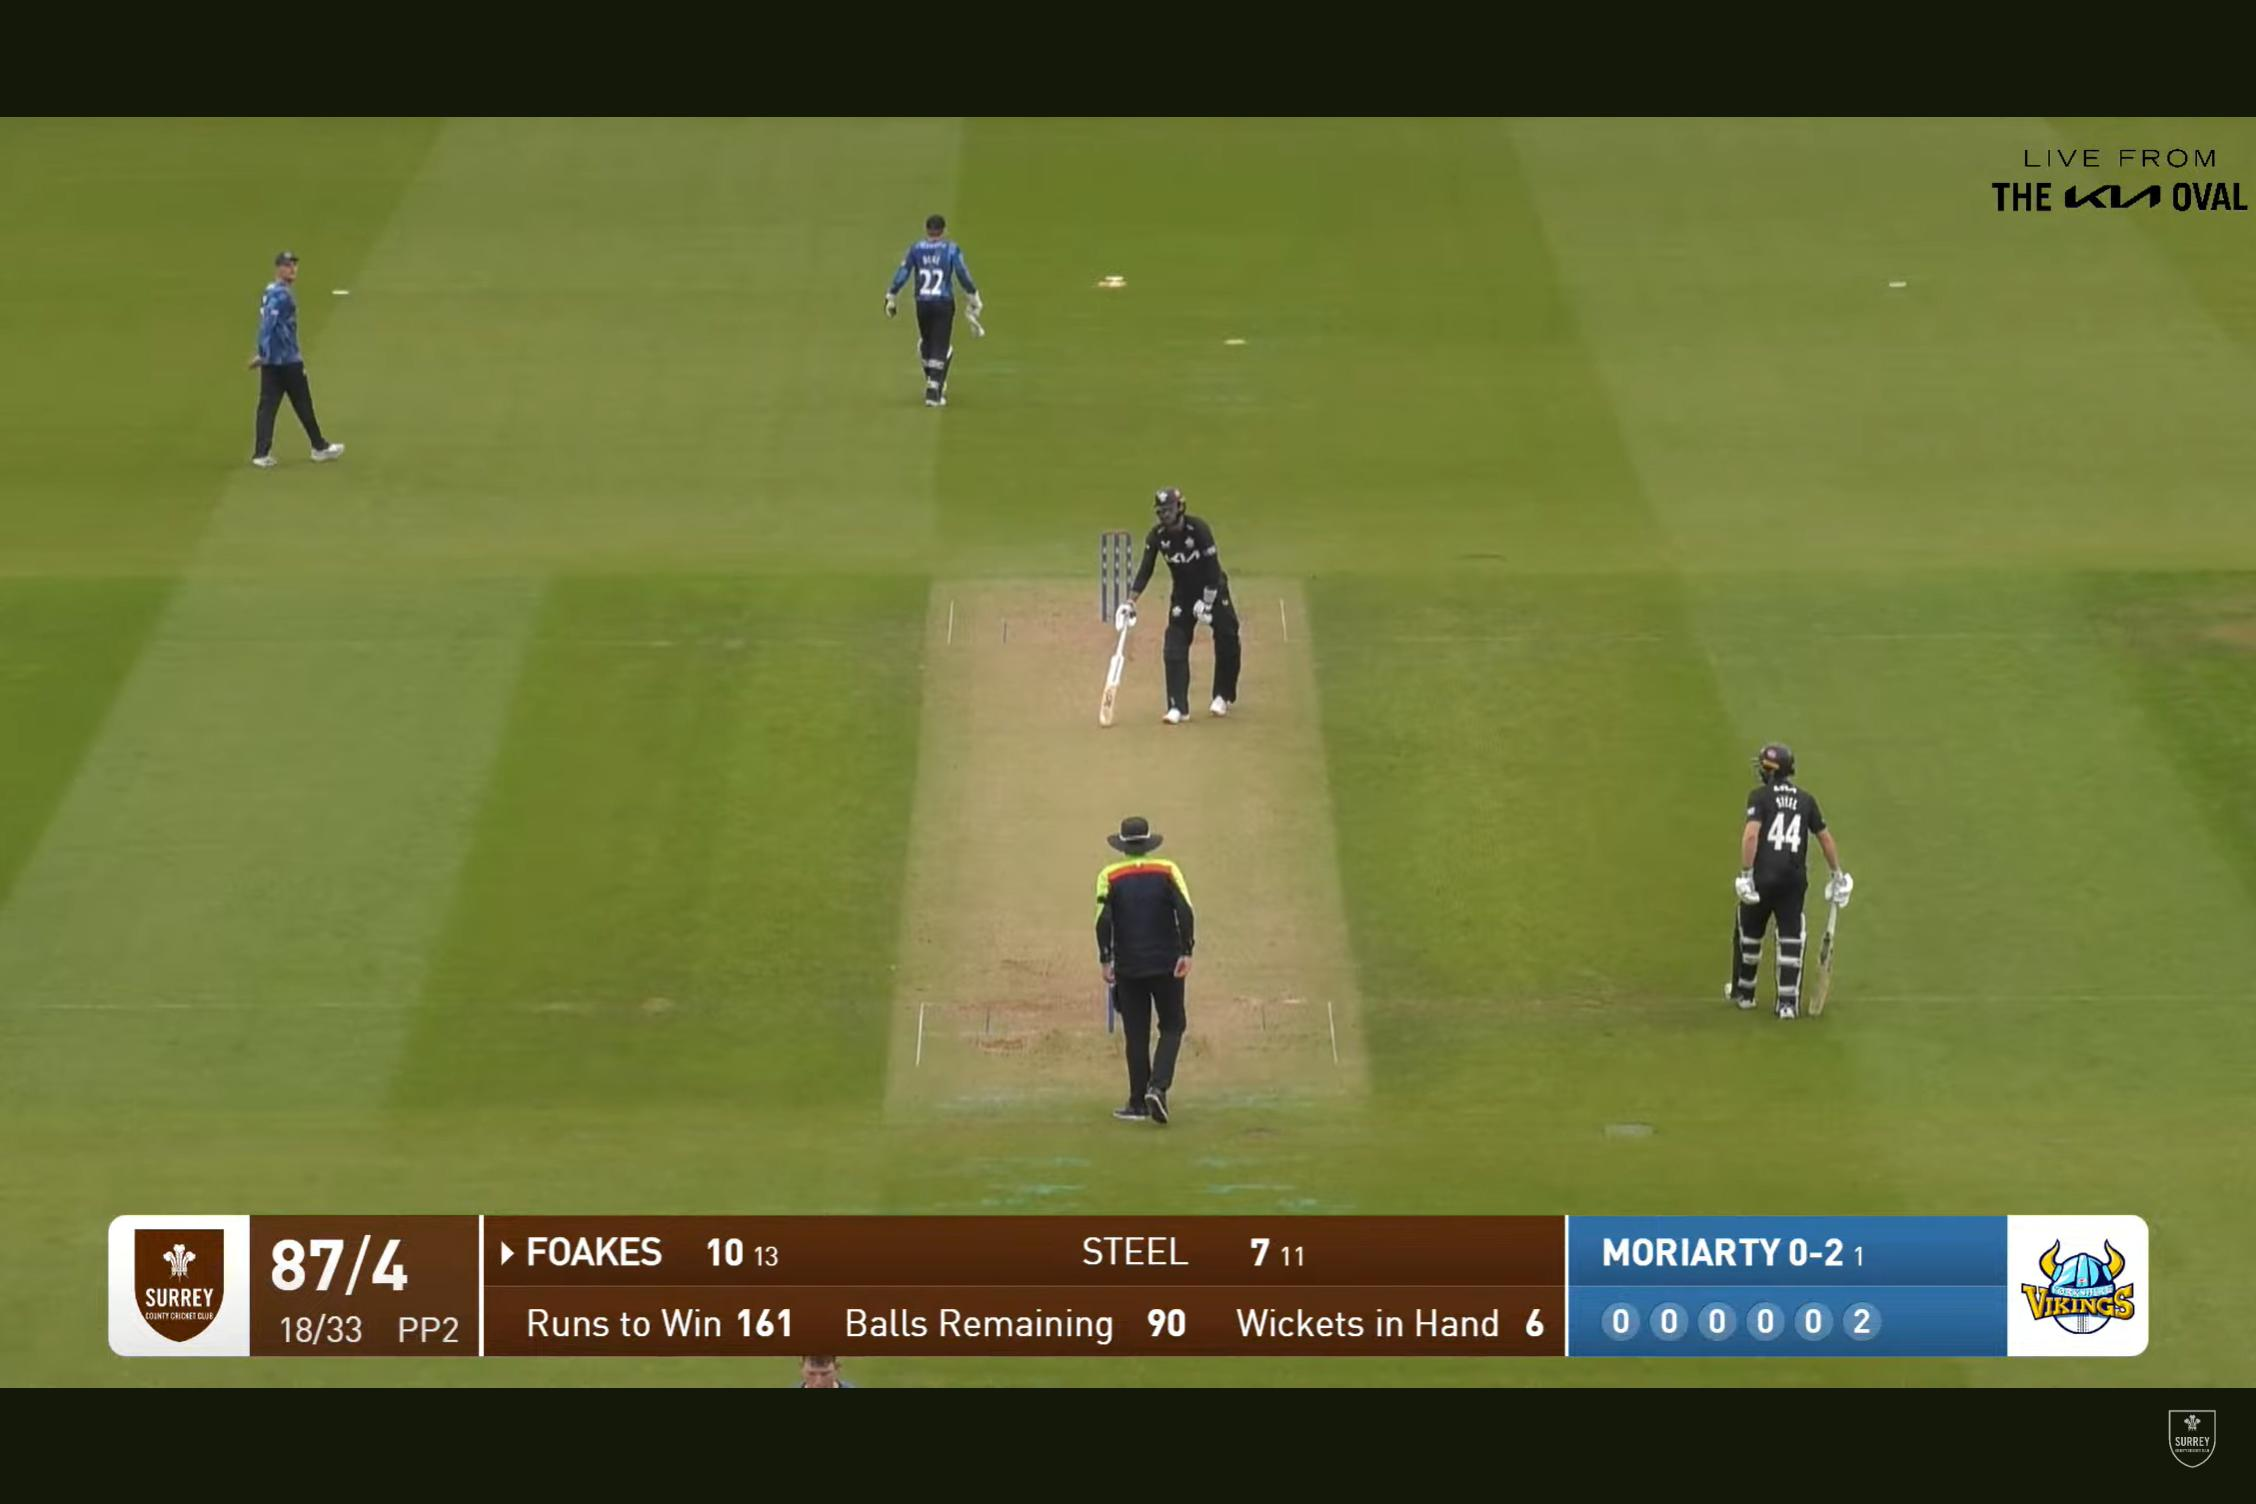batsman: (1089, 463, 1251, 760)
non striker: (1662, 692, 1895, 1054)
umpire: (1066, 796, 1237, 1135)
wicket keeper: (866, 211, 1007, 428)
